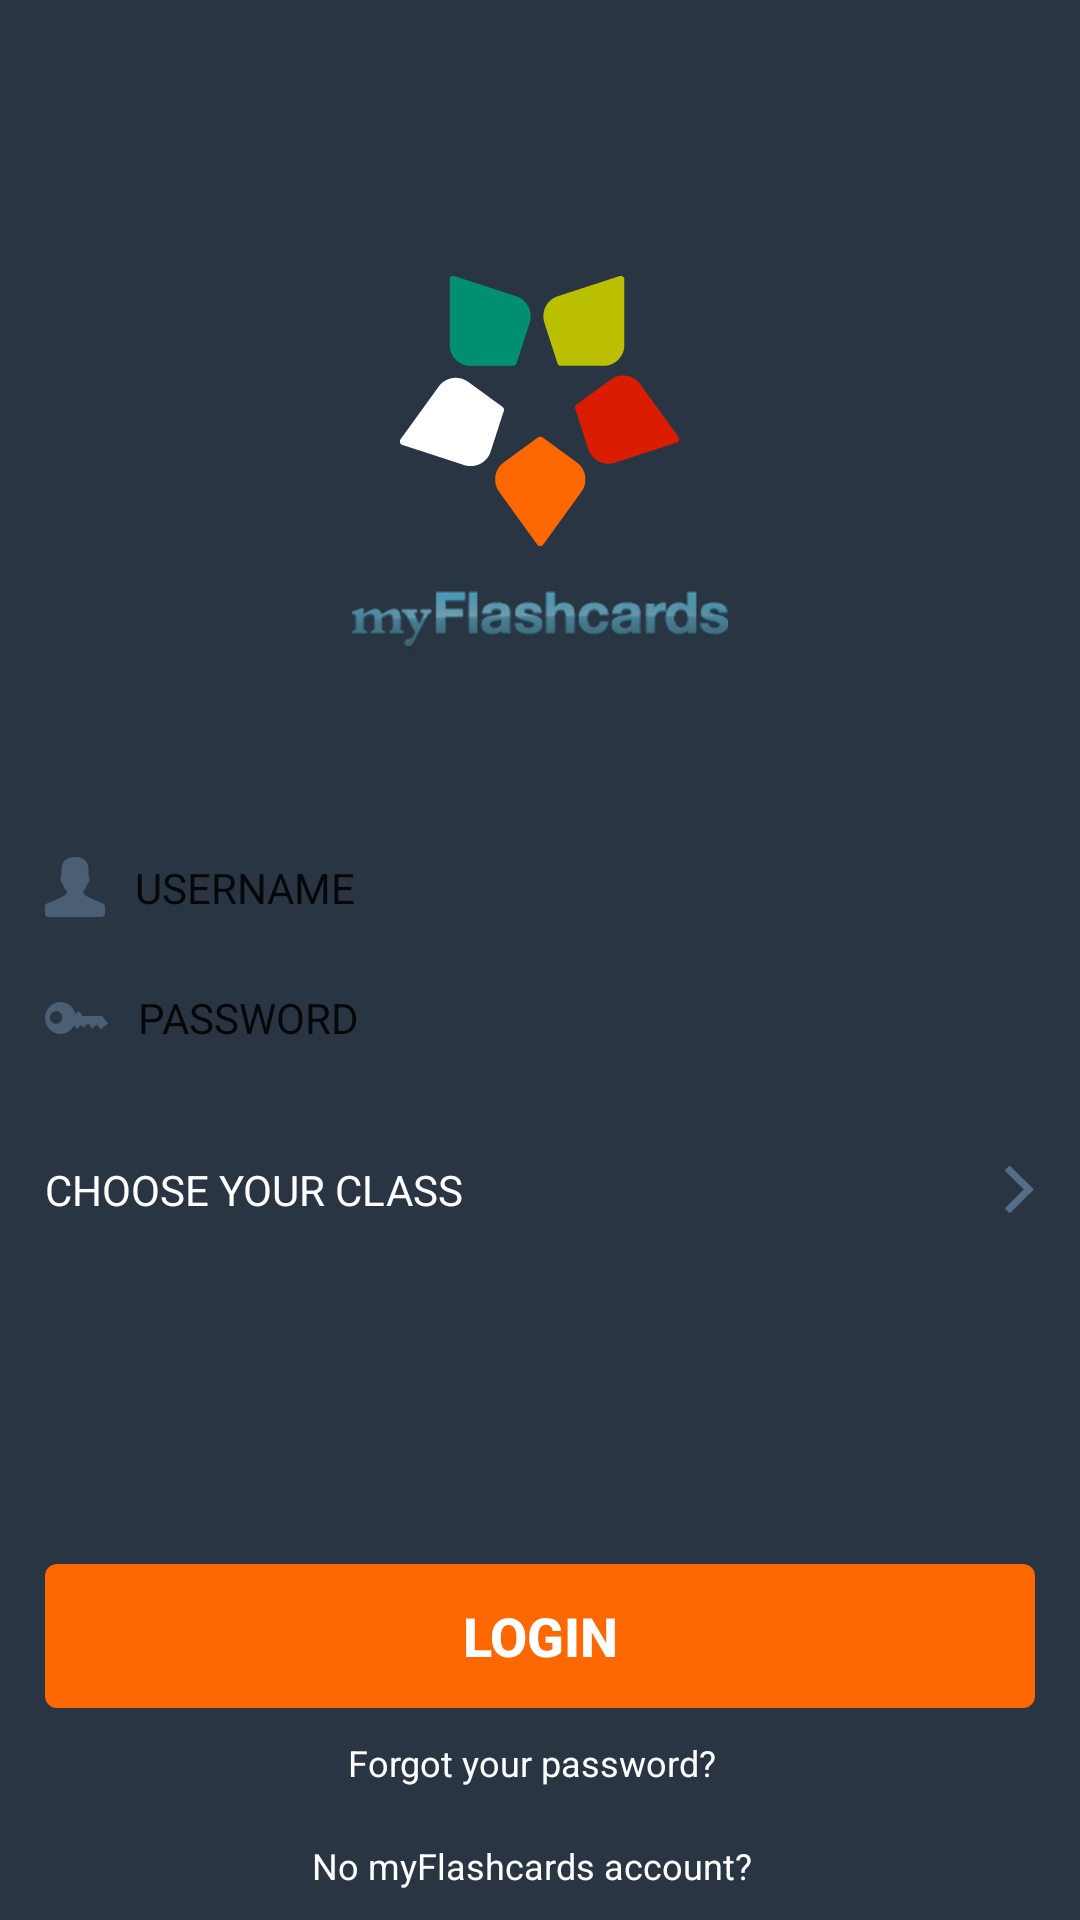

Screen size 1080w x 1920h. Icon name, then its center in pixels as (x=x, y=y):
forward: (x=1019, y=1189)
